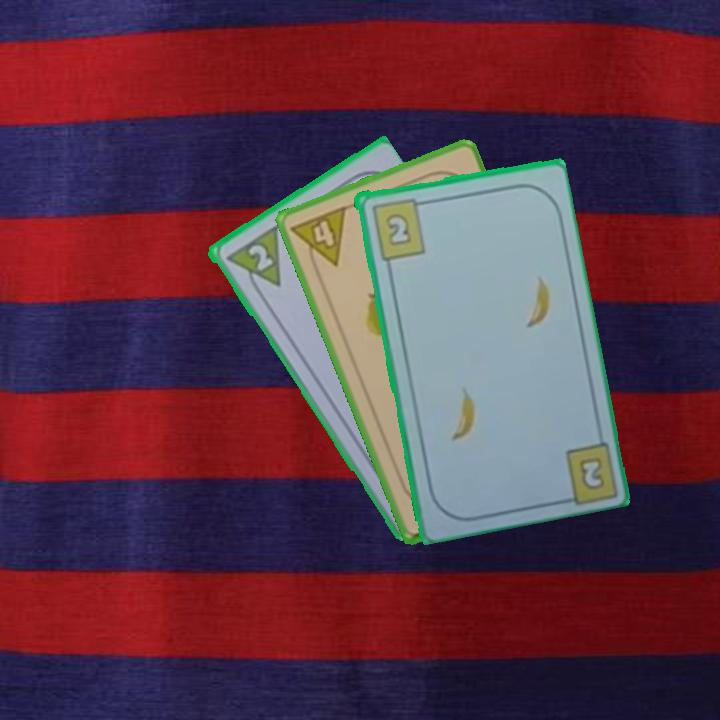2b: (367, 194, 429, 262), (575, 453, 608, 493)
2p: (243, 240, 276, 274)
4p: (287, 202, 350, 276)
